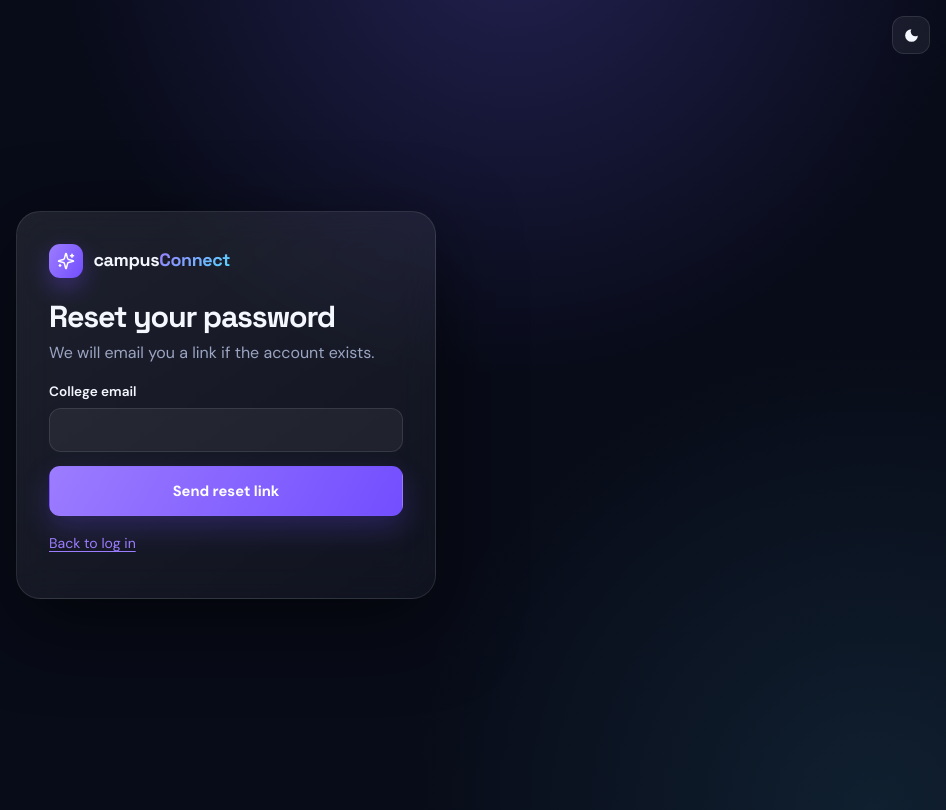
it: auth pages › requests a password reset link
The image size is (946, 810).
Step 1. Type "asha@college.edu" into the field labelled "College email" → (226, 430), box x1=49 y1=408 x2=403 y2=452
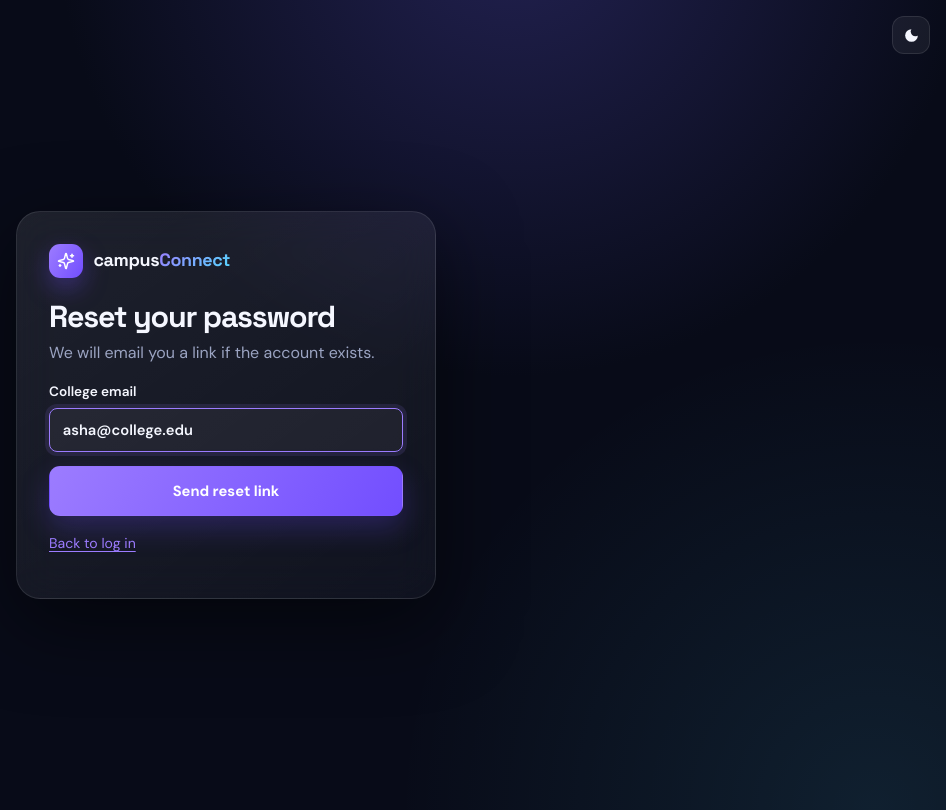
Step 2. Click the button "Send reset link" → (226, 491), box x1=49 y1=466 x2=403 y2=516
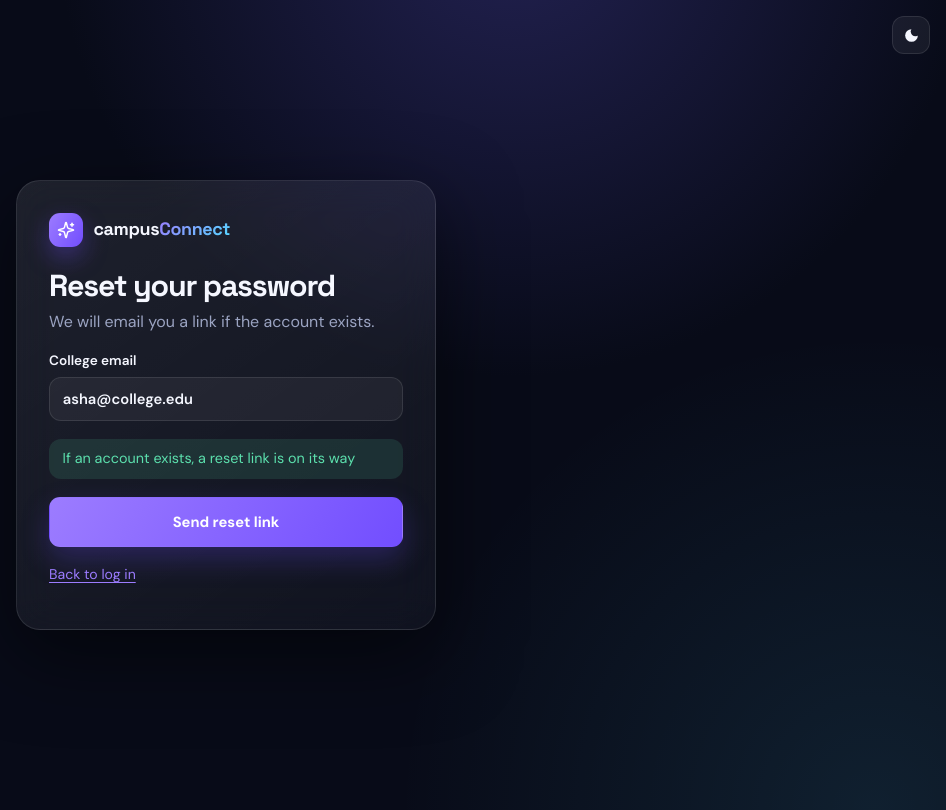
expect the text "If an account exists, a reset link is on its way" is shown: met, box x1=49 y1=439 x2=403 y2=480
